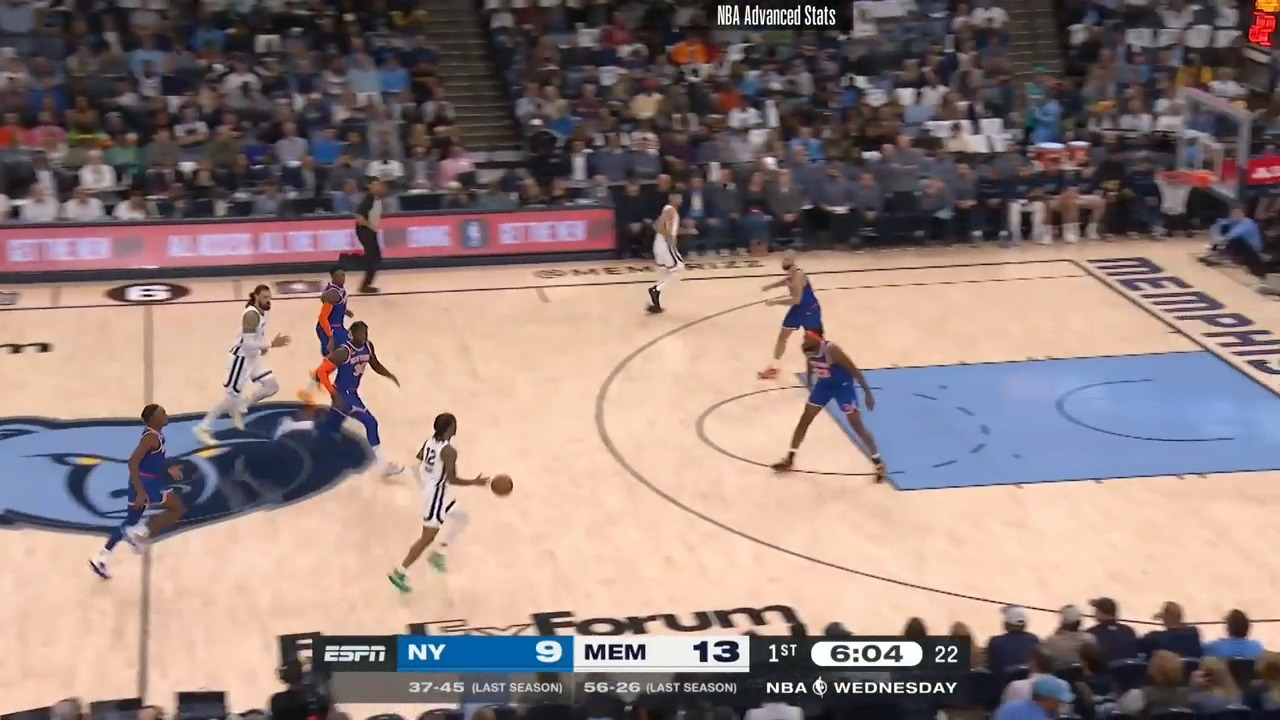net: (1152, 165, 1218, 222)
player: (386, 413, 496, 599), (288, 319, 409, 482), (85, 400, 189, 583), (186, 287, 294, 457), (779, 324, 892, 485), (754, 252, 823, 383), (643, 183, 701, 319), (308, 263, 357, 378)
referee: (351, 173, 402, 295)
